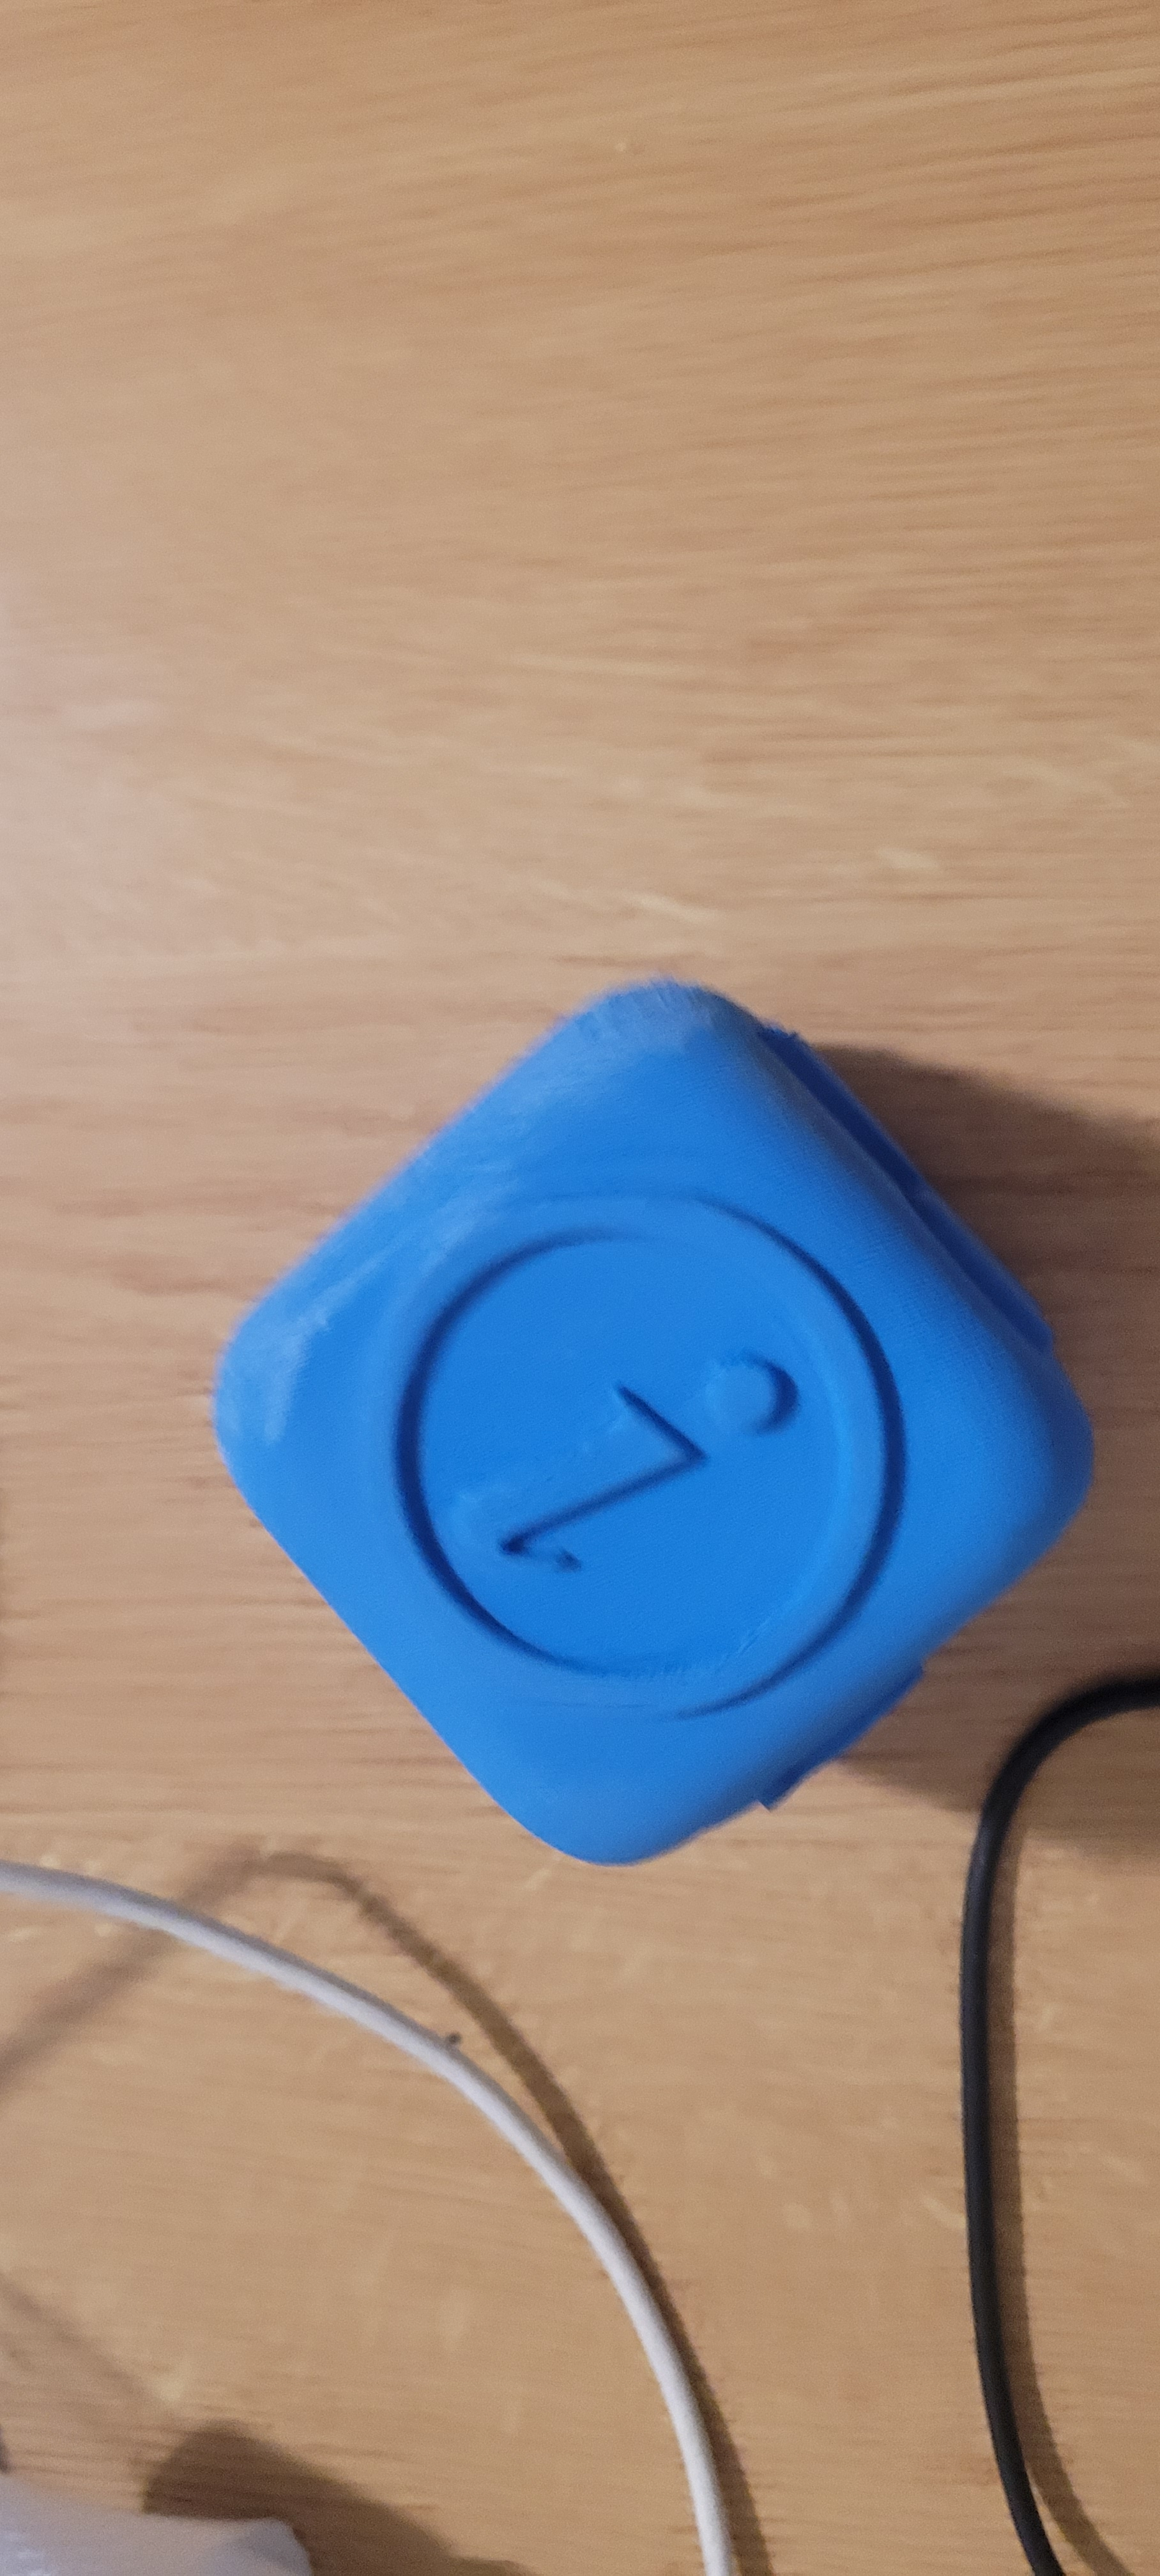Info: (248, 1007, 950, 1824)
